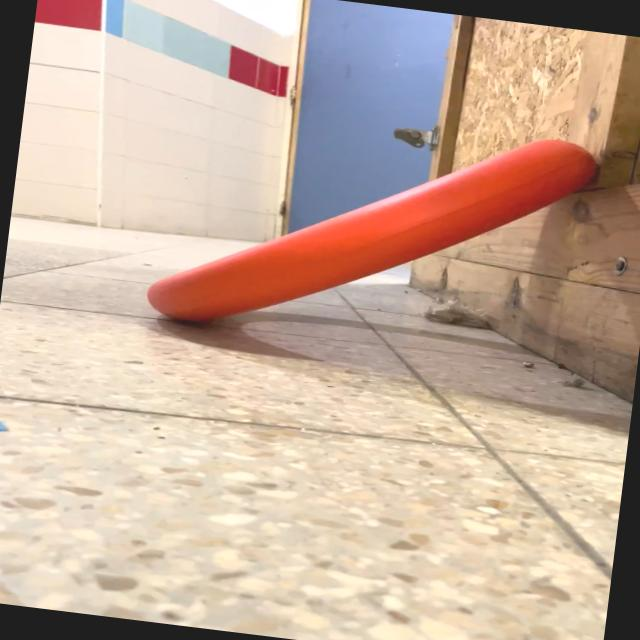note: (140, 89, 605, 372)
